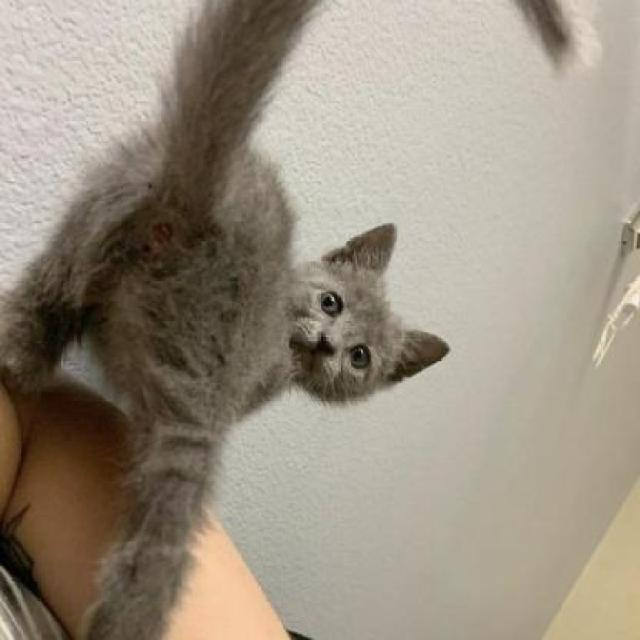cat: (55, 24, 490, 547)
